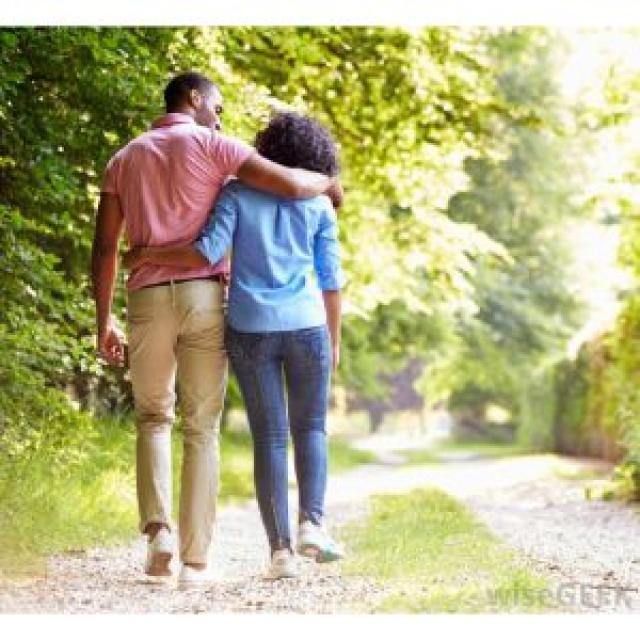nonfall: (83, 58, 244, 586), (248, 105, 350, 586)
